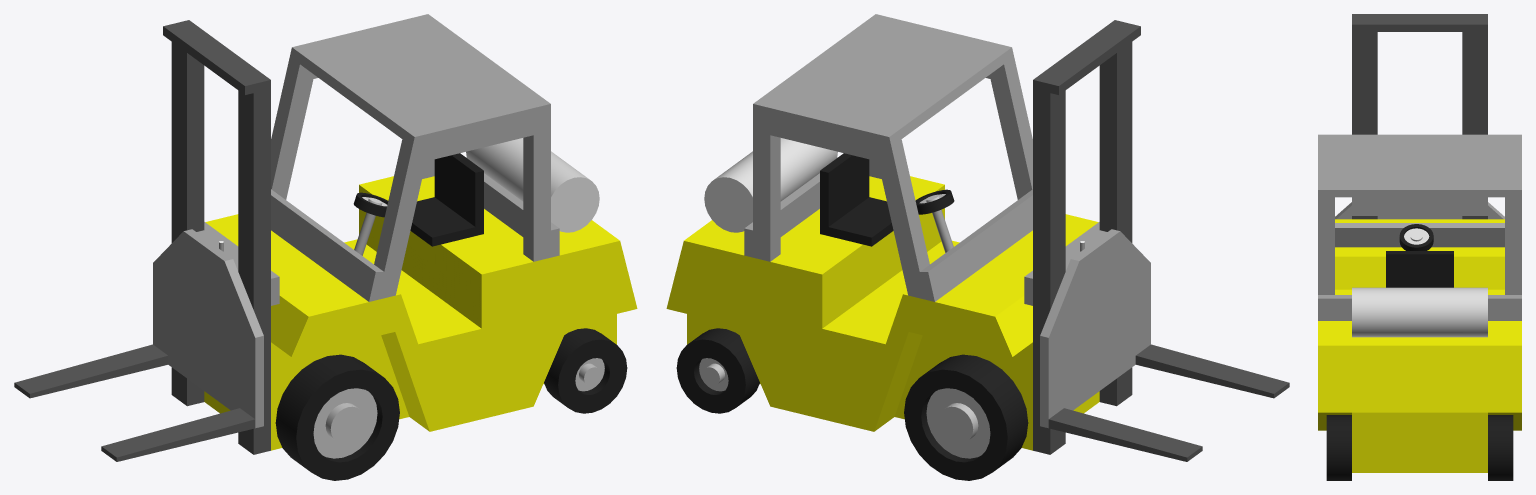
The model's file is Forklift_simple.obj.
The picture shows the model from 3 angles, left to right: view 1: azimuth 30°, elevation 25°; view 2: azimuth 150°, elevation 25°; view 3: azimuth 270°, elevation 25°; orthographic projection. The views are drawn at different scales.
Parts seen in each view (by area): view 1: Mesh1 Fender1 Forklift_2_1 Group1 Model, Mesh6 Roof1 Forklift_2_1 Group1 Model, Mesh12 Fork_Stop1 Forklift_2_1 Group1 Model, Mesh2 Chasis1 Forklift_2_1 Group1 Model, Mesh15 Front_Wheel1 Forklift_2_1 Group1 Model, Mesh4 Cab1 Forklift_2_1 Group1 Model, Mesh11 Mast2 Forklift_2_1 Group1 Model, Mesh10 Mast1 Forklift_2_1 Group1 Model, Mesh17 Rear_Wheel1 Forklift_2_1 Group1 Model, Mesh9 Tank1 Forklift_2_1 Group1 Model, Mesh8 Cab_Dash1 Forklift_2_1 Group1 Model, Mesh5 Cab2 Forklift_2_1 Group1 Model (+7 smaller); view 2: Mesh3 Fender2 Forklift_2_1 Group1 Model, Mesh6 Roof1 Forklift_2_1 Group1 Model, Mesh12 Fork_Stop1 Forklift_2_1 Group1 Model, Mesh2 Chasis1 Forklift_2_1 Group1 Model, Mesh16 Front_Wheel2 Forklift_2_1 Group1 Model, Mesh5 Cab2 Forklift_2_1 Group1 Model, Mesh10 Mast1 Forklift_2_1 Group1 Model, Mesh11 Mast2 Forklift_2_1 Group1 Model, Mesh18 Rear_Wheel2 Forklift_2_1 Group1 Model, Mesh9 Tank1 Forklift_2_1 Group1 Model, Mesh8 Cab_Dash1 Forklift_2_1 Group1 Model, Mesh4 Cab1 Forklift_2_1 Group1 Model (+8 smaller); view 3: Mesh2 Chasis1 Forklift_2_1 Group1 Model, Mesh6 Roof1 Forklift_2_1 Group1 Model, Mesh9 Tank1 Forklift_2_1 Group1 Model, Mesh1 Fender1 Forklift_2_1 Group1 Model, Mesh3 Fender2 Forklift_2_1 Group1 Model, Mesh8 Cab_Dash1 Forklift_2_1 Group1 Model, Mesh10 Mast1 Forklift_2_1 Group1 Model, Mesh11 Mast2 Forklift_2_1 Group1 Model, Mesh23 Fork_Bar1 Forklift_2_1 Group1 Model, Mesh21 Seat_Back1 Seat1 Forklift_2_1 Group1 Model, Mesh25 Mast_Cap1 Forklift_2_1 Group1 Model, Mesh7 Cab_End1 Forklift_2_1 Group1 Model (+6 smaller).
Boxes of the visible parts, <box> form: Mesh1 Fender1 Forklift_2_1 Group1 Model: <box>271,226,637,431</box>; Mesh6 Roof1 Forklift_2_1 Group1 Model: <box>290,14,550,146</box>; Mesh12 Fork_Stop1 Forklift_2_1 Group1 Model: <box>153,229,263,428</box>; Mesh2 Chasis1 Forklift_2_1 Group1 Model: <box>204,186,616,450</box>; Mesh15 Front_Wheel1 Forklift_2_1 Group1 Model: <box>275,354,399,480</box>; Mesh4 Cab1 Forklift_2_1 Group1 Model: <box>374,113,550,299</box>; Mesh11 Mast2 Forklift_2_1 Group1 Model: <box>238,89,270,454</box>; Mesh10 Mast1 Forklift_2_1 Group1 Model: <box>171,42,204,406</box>; Mesh17 Rear_Wheel1 Forklift_2_1 Group1 Model: <box>544,328,627,413</box>; Mesh9 Tank1 Forklift_2_1 Group1 Model: <box>466,138,599,232</box>; Mesh8 Cab_Dash1 Forklift_2_1 Group1 Model: <box>271,189,383,301</box>; Mesh5 Cab2 Forklift_2_1 Group1 Model: <box>271,57,434,199</box>; Mesh3 Fender2 Forklift_2_1 Group1 Model: <box>666,226,1032,431</box>; Mesh6 Roof1 Forklift_2_1 Group1 Model: <box>753,14,1013,146</box>; Mesh12 Fork_Stop1 Forklift_2_1 Group1 Model: <box>1040,229,1150,428</box>; Mesh2 Chasis1 Forklift_2_1 Group1 Model: <box>687,186,1099,450</box>; Mesh16 Front_Wheel2 Forklift_2_1 Group1 Model: <box>904,354,1028,480</box>; Mesh5 Cab2 Forklift_2_1 Group1 Model: <box>753,113,929,299</box>; Mesh10 Mast1 Forklift_2_1 Group1 Model: <box>1033,89,1065,454</box>; Mesh11 Mast2 Forklift_2_1 Group1 Model: <box>1099,42,1132,406</box>; Mesh18 Rear_Wheel2 Forklift_2_1 Group1 Model: <box>676,328,759,413</box>; Mesh9 Tank1 Forklift_2_1 Group1 Model: <box>704,138,837,232</box>; Mesh8 Cab_Dash1 Forklift_2_1 Group1 Model: <box>920,189,1032,301</box>; Mesh4 Cab1 Forklift_2_1 Group1 Model: <box>869,57,1032,199</box>; Mesh2 Chasis1 Forklift_2_1 Group1 Model: <box>1352,219,1487,472</box>; Mesh6 Roof1 Forklift_2_1 Group1 Model: <box>1318,134,1521,197</box>; Mesh9 Tank1 Forklift_2_1 Group1 Model: <box>1352,287,1487,337</box>; Mesh1 Fender1 Forklift_2_1 Group1 Model: <box>1318,219,1351,430</box>; Mesh3 Fender2 Forklift_2_1 Group1 Model: <box>1488,219,1521,430</box>; Mesh8 Cab_Dash1 Forklift_2_1 Group1 Model: <box>1335,223,1504,247</box>; Mesh10 Mast1 Forklift_2_1 Group1 Model: <box>1462,32,1487,219</box>; Mesh11 Mast2 Forklift_2_1 Group1 Model: <box>1352,32,1377,219</box>; Mesh23 Fork_Bar1 Forklift_2_1 Group1 Model: <box>1352,197,1487,215</box>; Mesh21 Seat_Back1 Seat1 Forklift_2_1 Group1 Model: <box>1386,251,1453,287</box>; Mesh25 Mast_Cap1 Forklift_2_1 Group1 Model: <box>1352,14,1487,31</box>; Mesh7 Cab_End1 Forklift_2_1 Group1 Model: <box>1318,295,1521,320</box>.
Bounding box in the file's own units: 3000 × 2238 × 1250.
